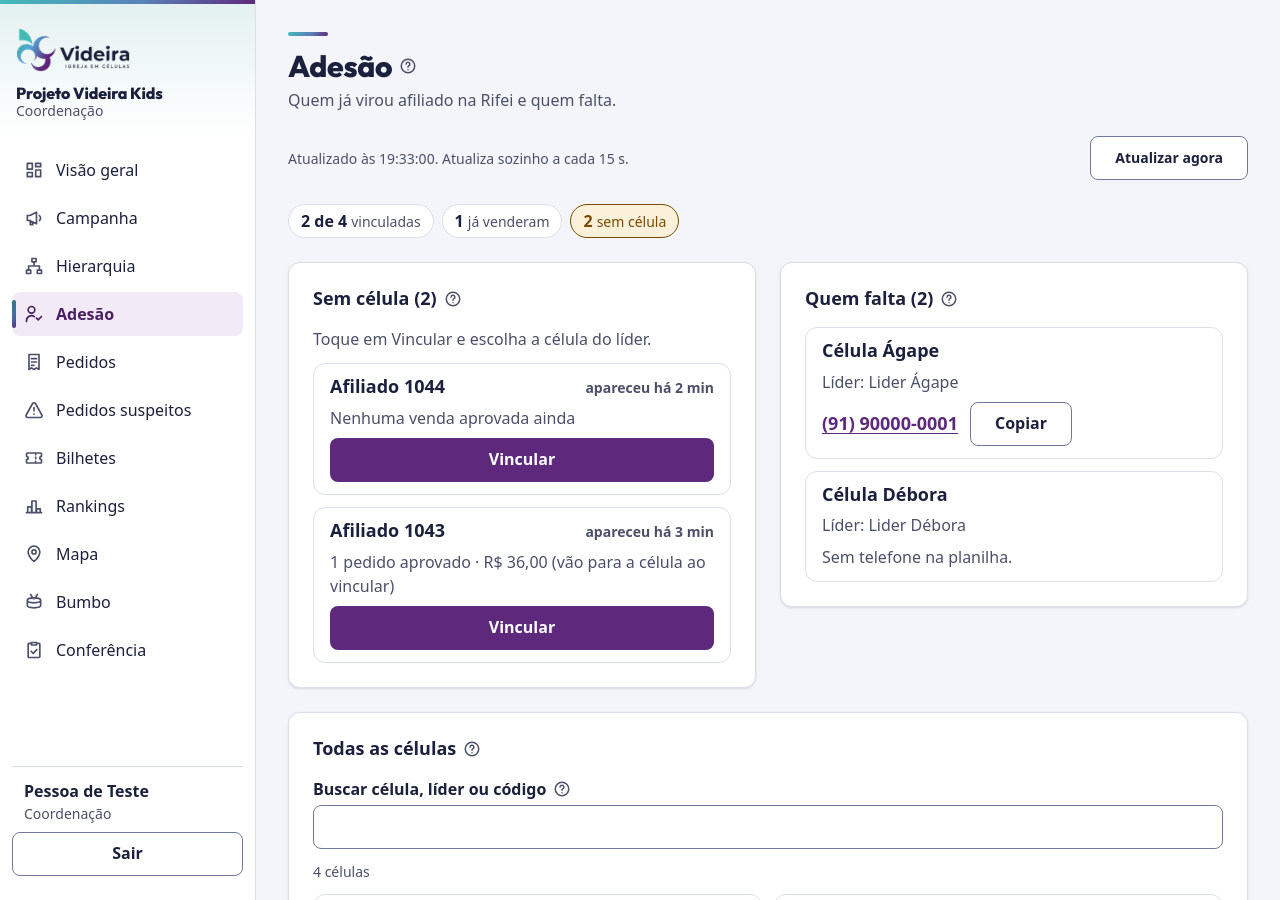
Test: CA3: painel de adesão (/coordenacao/adesao) › copiar o telefone do líder que falta
The width and height of the screenshot is (1280, 900).
Expected: the text "Atualizado às 19:33:00. Atualiza sozinho a cada 15 s." is shown, [288,148,629,168]
Click the button named "Copiar o telefone de Lider Ágape" at (1021, 424), box [970,402,1072,446]
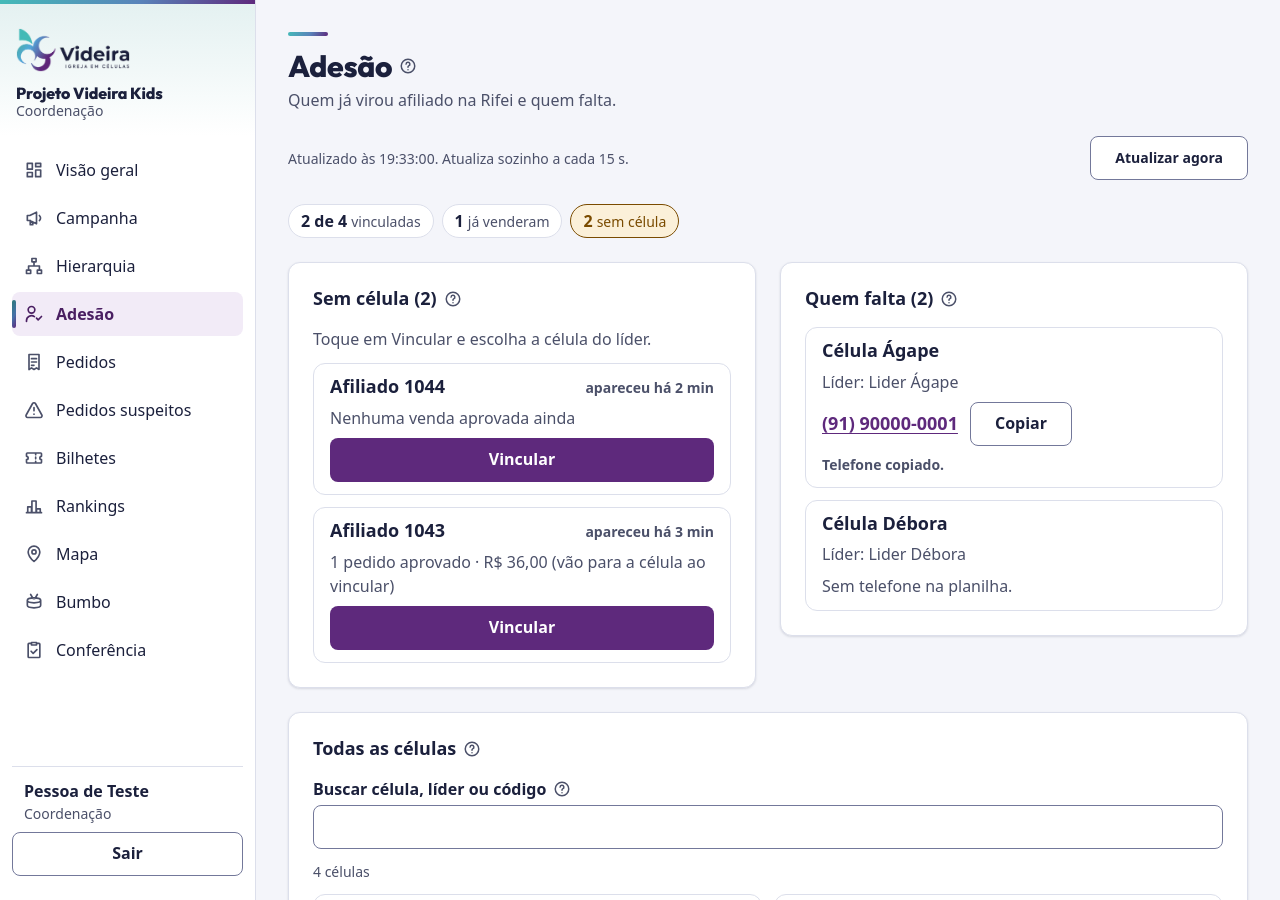
Expected: the message reads "Telefone copiado.", [822,455,944,474]
